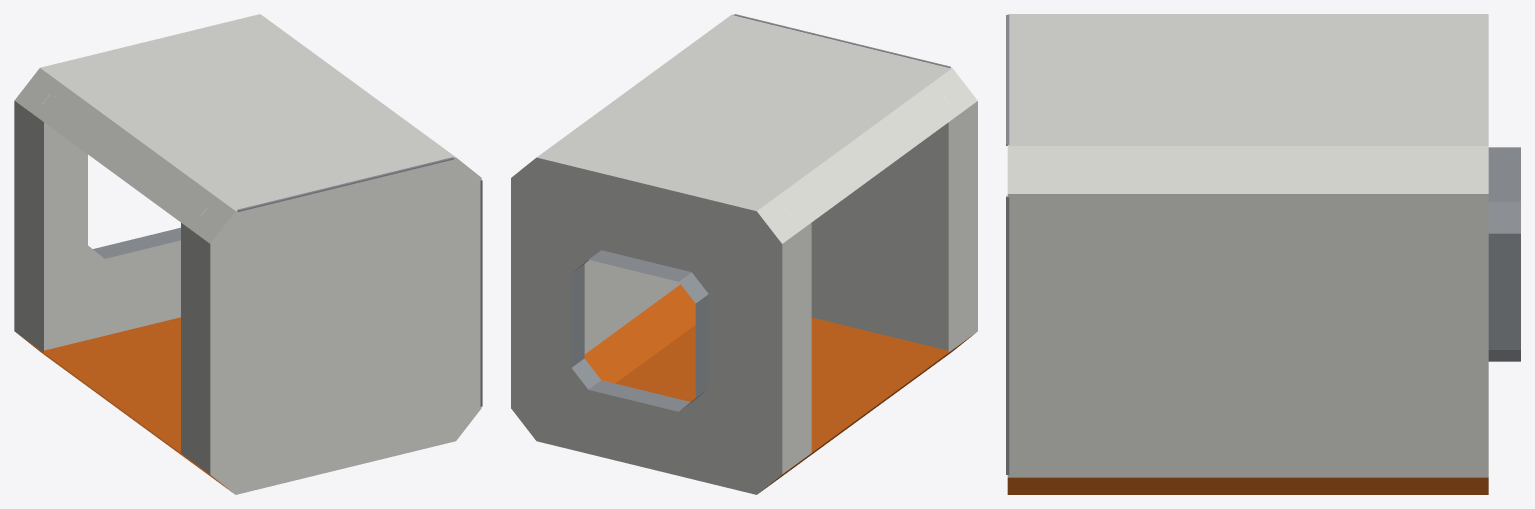
Rendered from SM_Modulo_Tacuarembo_Casco.fbx.
3 views of the same model, side by side, from view 1: azimuth 30°, elevation 25°; view 2: azimuth 150°, elevation 25°; view 3: azimuth 270°, elevation 25° (orthographic). The views are drawn at different scales.
Parts seen in each view (by area): view 1: SM_Modulo_Tacuarembo_Casco; view 2: SM_Modulo_Tacuarembo_Casco; view 3: SM_Modulo_Tacuarembo_Casco.
Boxes of the visible parts, x1,y1,x2,y2 form: SM_Modulo_Tacuarembo_Casco: (14, 14, 482, 494); SM_Modulo_Tacuarembo_Casco: (511, 14, 977, 494); SM_Modulo_Tacuarembo_Casco: (1006, 14, 1520, 494).
Bounding box in the file's own units: 2.4 × 2.4 × 3.21.
